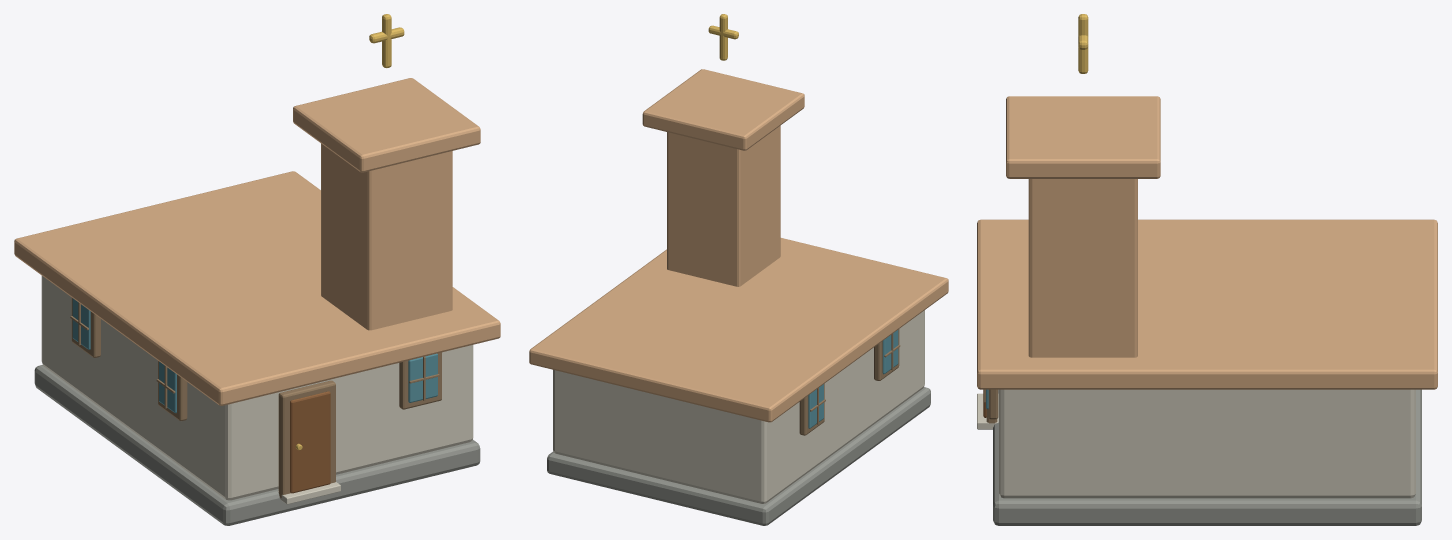
File: arid-chapel-0.glb
The picture shows the model from 3 angles, left to right: view 1: azimuth 30°, elevation 25°; view 2: azimuth 150°, elevation 25°; view 3: azimuth 270°, elevation 25°; orthographic projection. The views are drawn at different scales.
Parts seen in each view (by area): view 1: Adobe cream, Cut limestone, Adobe warm_stone, Foundation stone, Palm beams, Door oak, Blue glass, Warm brass; view 2: Adobe cream, Cut limestone, Adobe warm_stone, Foundation stone, Palm beams, Blue glass, Warm brass; view 3: Adobe cream, Cut limestone, Adobe warm_stone, Foundation stone, Warm brass.
Boxes of the visible parts, x1,y1,x2,y2 form: Adobe cream: (14,78,500,405); Cut limestone: (41,276,473,504); Adobe warm_stone: (321,143,452,330); Foundation stone: (34,365,480,525); Palm beams: (70,297,441,497); Door oak: (290,391,330,493); Blue glass: (72,298,437,412); Warm brass: (295,14,404,450); Adobe cream: (529,69,948,422); Cut limestone: (553,310,924,503); Adobe warm_stone: (667,125,780,286); Foundation stone: (547,387,930,525); Palm beams: (799,329,900,435); Blue glass: (808,330,898,428); Warm brass: (708,14,738,60); Adobe cream: (977,96,1437,389); Cut limestone: (977,389,1415,498); Adobe warm_stone: (1028,179,1137,357); Foundation stone: (993,389,1421,525); Warm brass: (1078,14,1088,73).
Bounding box in the file's own units: 3.64 × 5.38 × 4.64.
